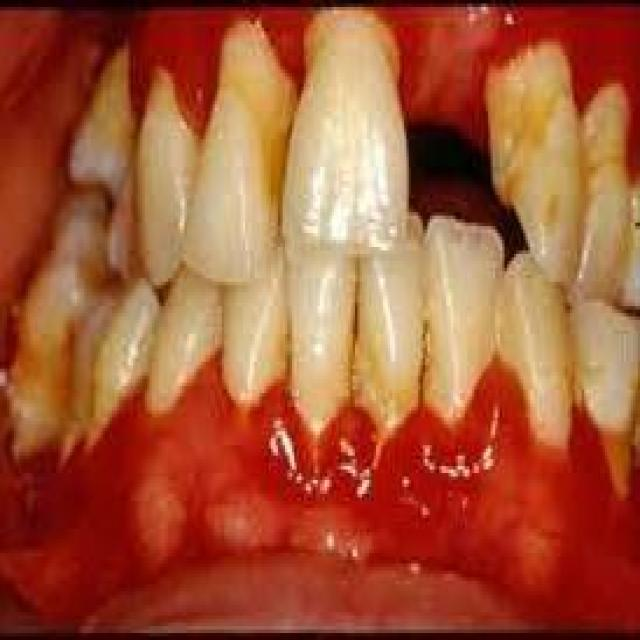Gingivitis: (260, 405, 384, 510)
